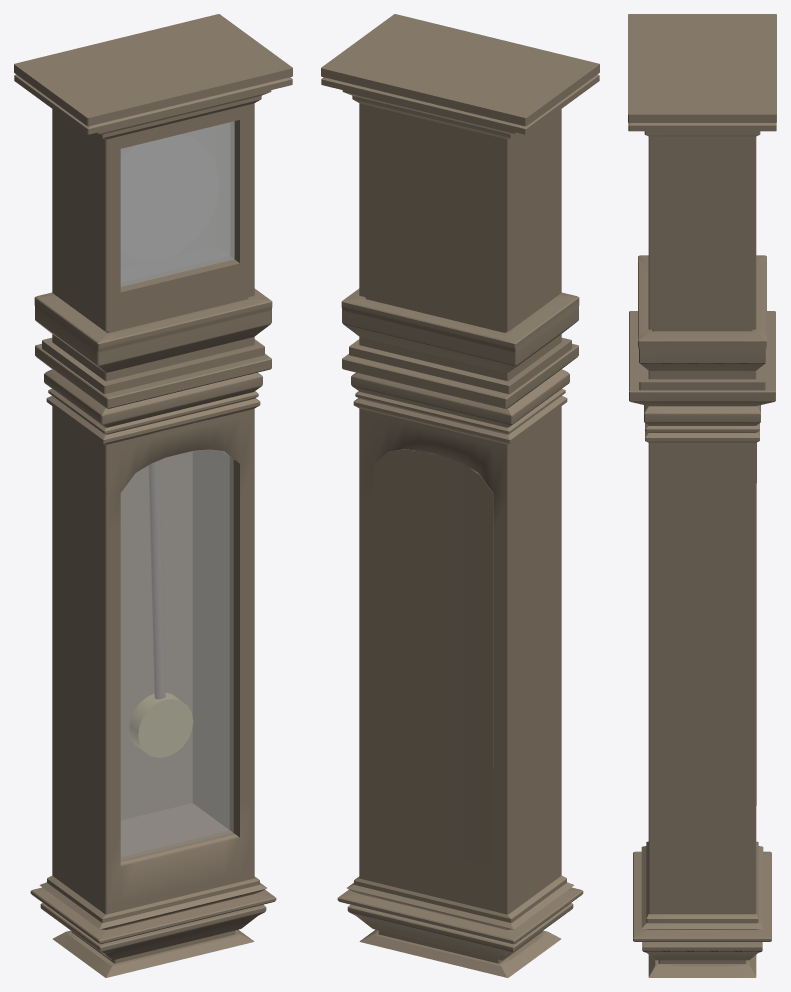
The model's file is Grandfather_Clock.fbx.
3 views of the same model, side by side, from view 1: azimuth 30°, elevation 25°; view 2: azimuth 150°, elevation 25°; view 3: azimuth 270°, elevation 25° (orthographic).
Visible parts, largest first — view 1: Grandfather_Clock, Grandfather_Clock_Cabinet_Glass, Grandfather_Clock_Glass, Grandfather_Clock_Chime; view 2: Grandfather_Clock; view 3: Grandfather_Clock.
Part boxes in pixels (x1=…): Grandfather_Clock: x1=14, y1=14, x2=292, y2=977; Grandfather_Clock_Cabinet_Glass: x1=120, y1=449, x2=233, y2=860; Grandfather_Clock_Glass: x1=120, y1=121, x2=234, y2=286; Grandfather_Clock_Chime: x1=129, y1=460, x2=192, y2=757; Grandfather_Clock: x1=321, y1=14, x2=599, y2=977; Grandfather_Clock: x1=628, y1=14, x2=776, y2=977.
Size of the model in its own units: 55.16 by 224 by 34.48.
